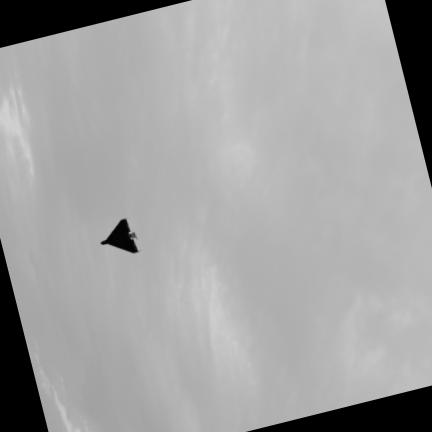Shahed: (100, 219, 138, 252)
